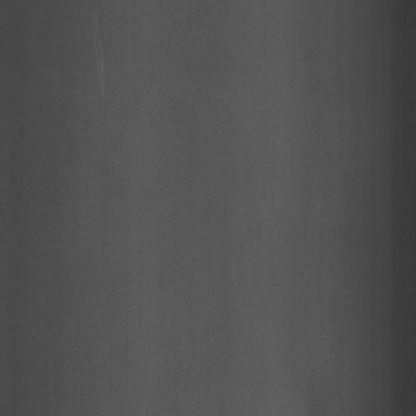silk_spot: (78, 13, 116, 99)
